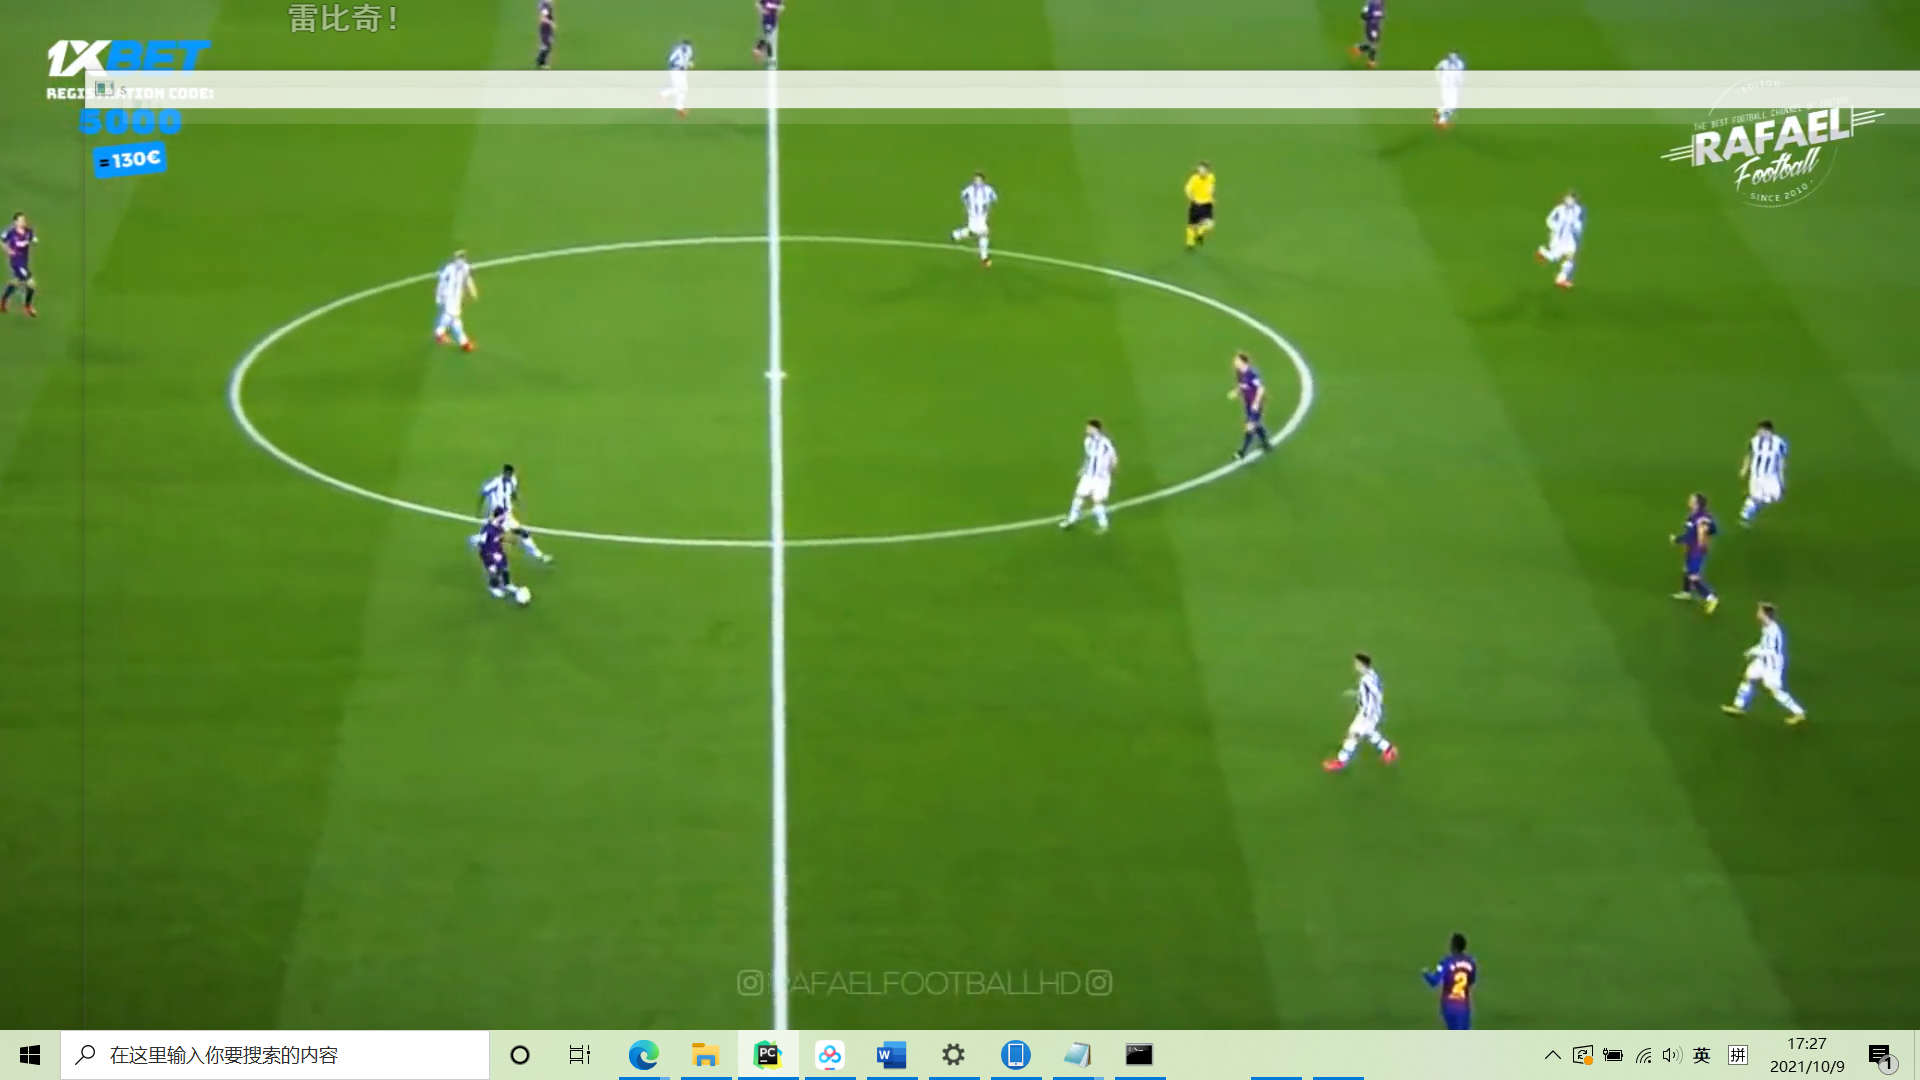ft: (516, 585, 531, 605)
